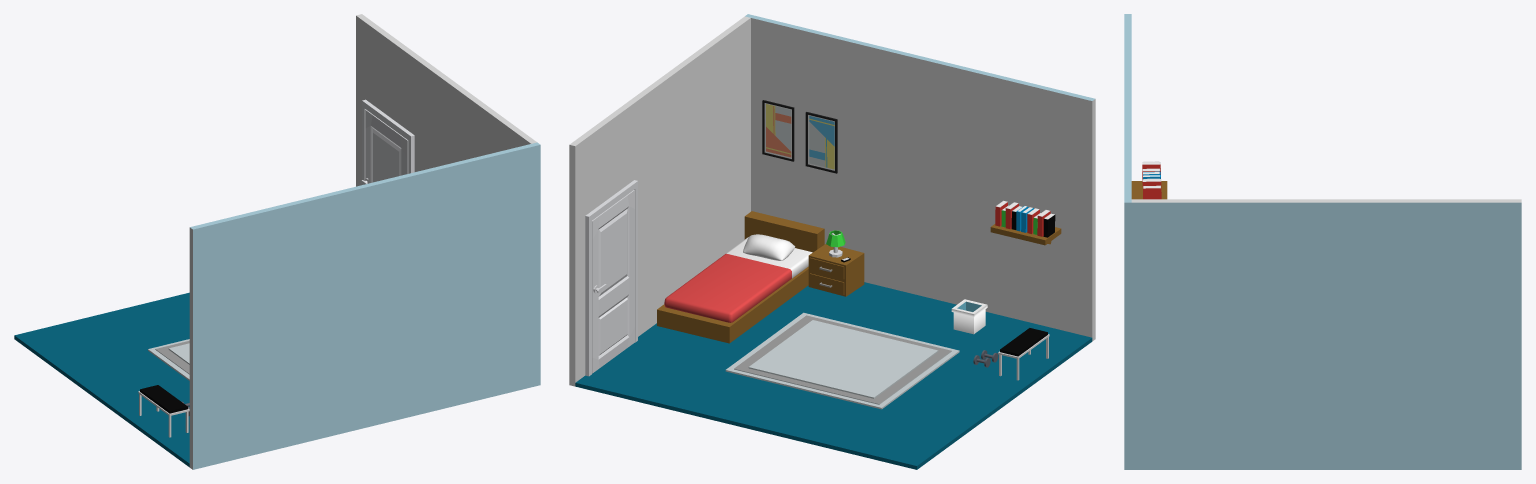
File: Room1.fbx
3 views of the same model, side by side, from view 1: azimuth 30°, elevation 25°; view 2: azimuth 150°, elevation 25°; view 3: azimuth 270°, elevation 25° (orthographic). The views are drawn at different scales.
Parts seen in each view (by area): view 1: Cube.012, Cube.019, Cylinder.007, model.002; view 2: Cube.012, model.002, Cube.010, Cube.019, model.001, Cube.018, Cube.022, Cylinder.007, Cube.015; view 3: Cube.012, Cube.022.
Boxes of the visible parts, x1,y1,x2,y2 form: Cube.012: (14, 14, 540, 469); Cube.019: (360, 99, 414, 184); Cylinder.007: (138, 385, 189, 437); model.002: (148, 339, 189, 380); Cube.012: (569, 14, 1095, 469); model.002: (725, 312, 959, 409); Cube.010: (657, 211, 824, 343); Cube.019: (585, 180, 637, 376); model.001: (762, 100, 837, 173); Cube.018: (808, 230, 864, 296); Cube.022: (990, 200, 1061, 245); Cylinder.007: (973, 328, 1049, 380); Cube.015: (951, 299, 987, 334); Cube.012: (1124, 14, 1521, 469); Cube.022: (1131, 161, 1167, 199).
Bounding box in the file's own units: 10876 × 7186 × 9680.
